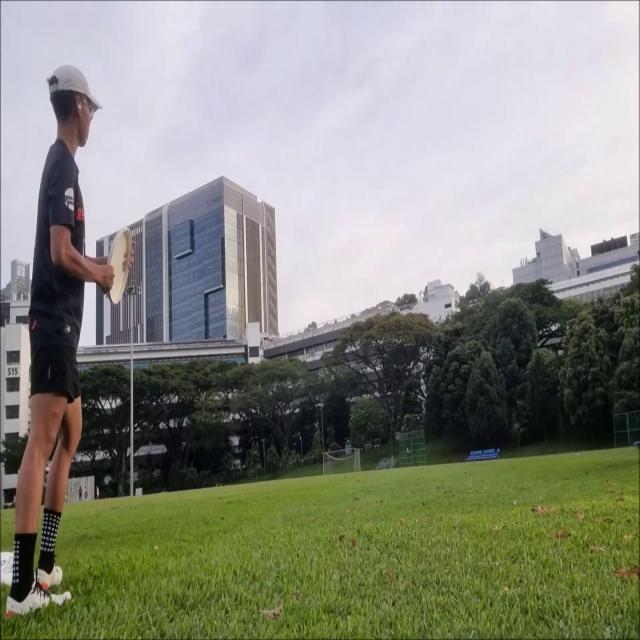disc: (105, 225, 133, 306)
